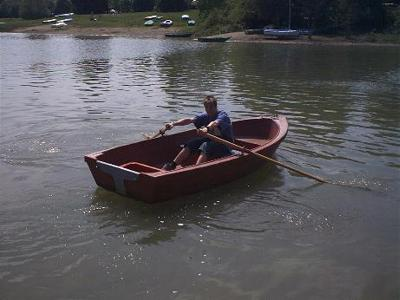person: (165, 95, 234, 172)
